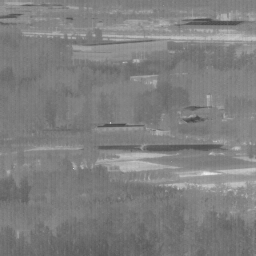aircraft: (110, 122, 112, 124)
